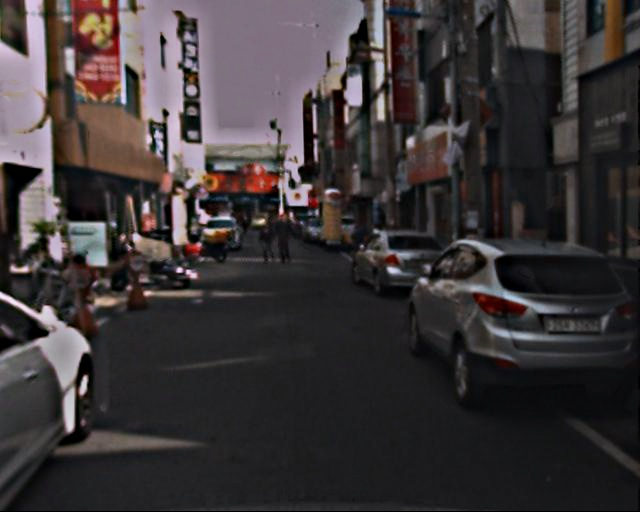person: (349, 213, 372, 276), (275, 214, 298, 274), (259, 218, 279, 270)
